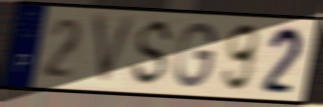2: (256, 22, 308, 99), (41, 16, 84, 81)
9: (219, 22, 262, 94)
G: (173, 20, 219, 90)
S: (128, 17, 177, 90)
V: (90, 12, 140, 90)
